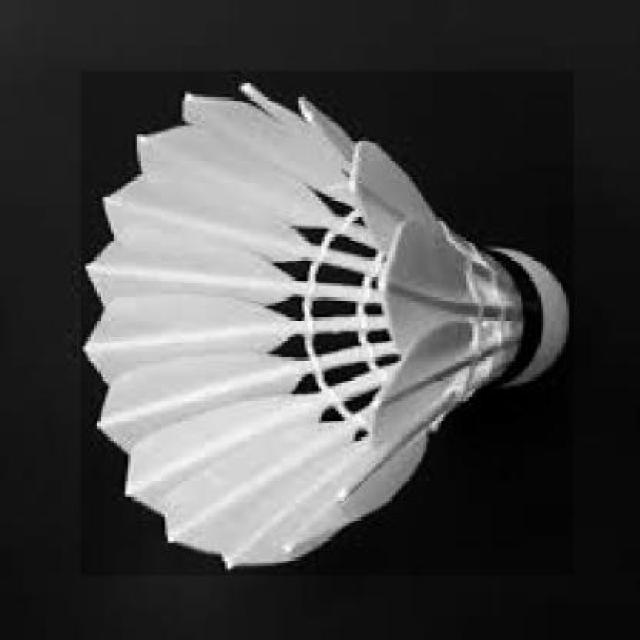Shuttlecock: (80, 71, 574, 575)
